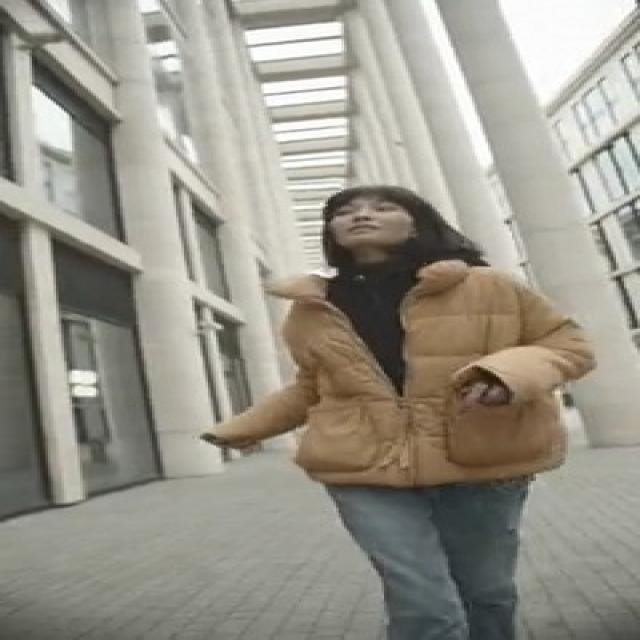Jacket_Wearer: (225, 260, 605, 474)
Person: (247, 192, 613, 640)
